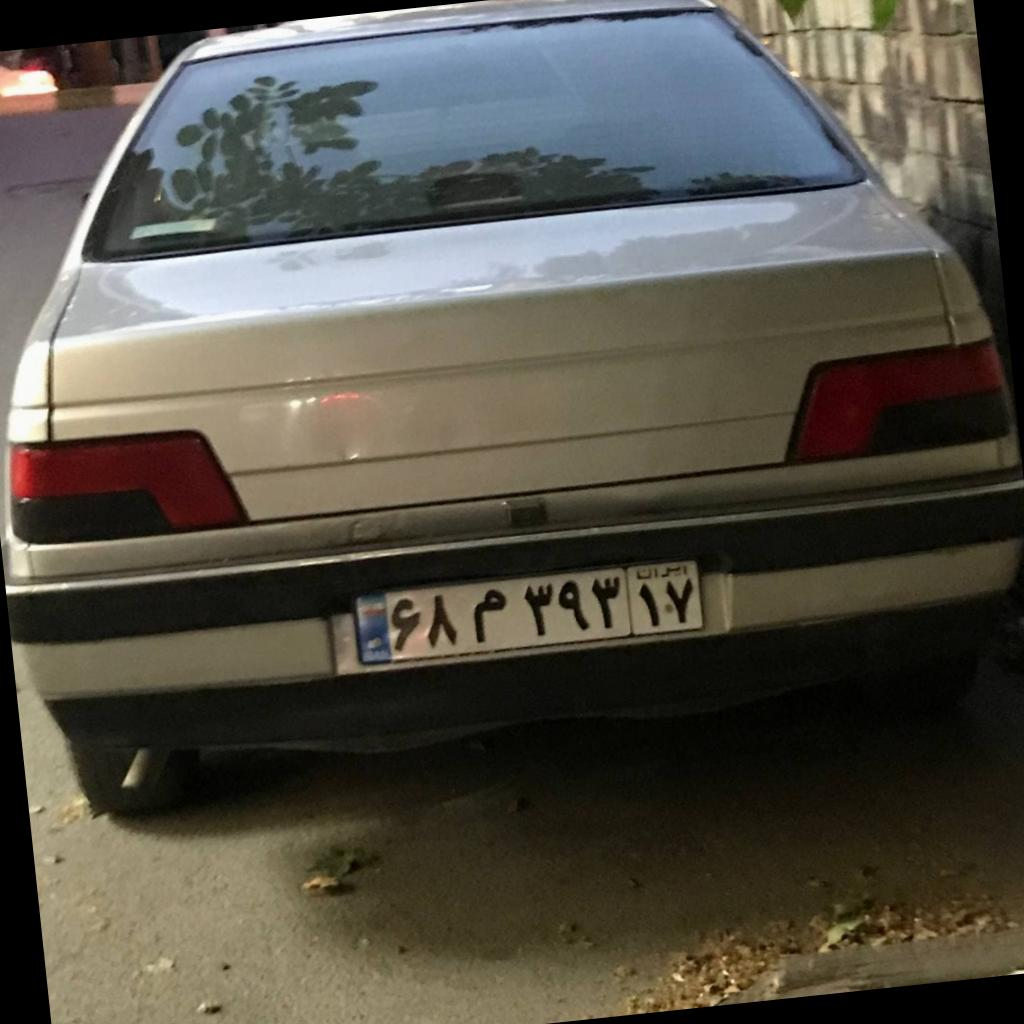Plates: (351, 559, 705, 665)
